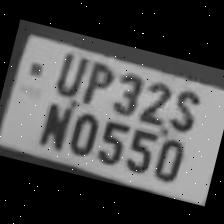0: (146, 128, 190, 183), (62, 101, 102, 156)
2: (132, 72, 174, 127)
3: (105, 63, 147, 116)
5: (120, 120, 161, 174), (90, 112, 130, 165)
N: (32, 93, 74, 149)
P: (74, 52, 118, 108)
S: (162, 79, 206, 135)
U: (47, 44, 90, 100)
